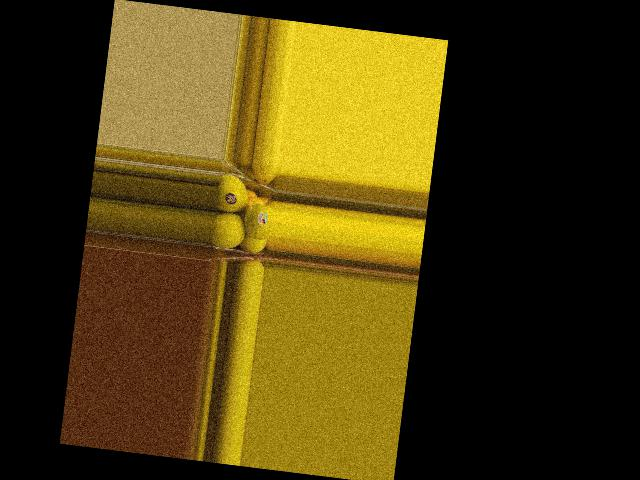apple: (242, 198, 273, 242)
